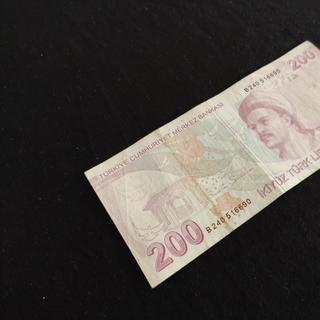200TLBack: (83, 39, 320, 289)
